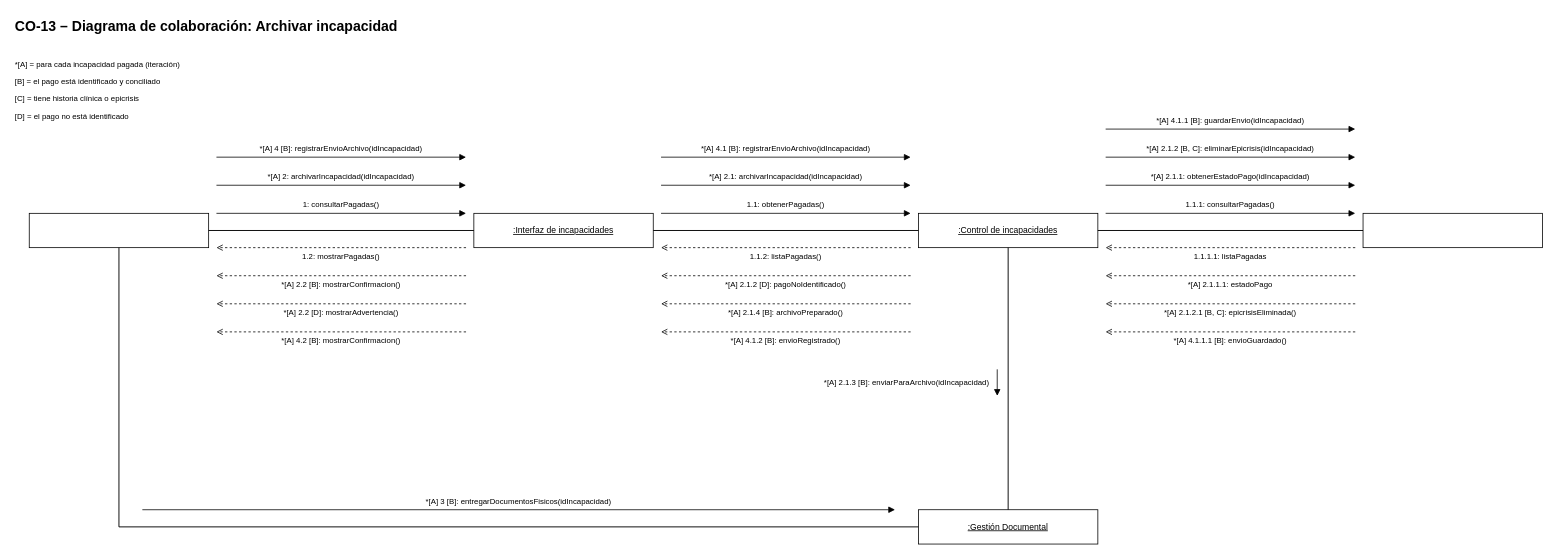
The diagram is 1556 pixels wide and 558 high, and some of its shapes have lost their labels. Each missing label, with the centre of its shape:
:Auxiliar de Administración de Personal: (118,230)
:Base de datos: (1452,230)
